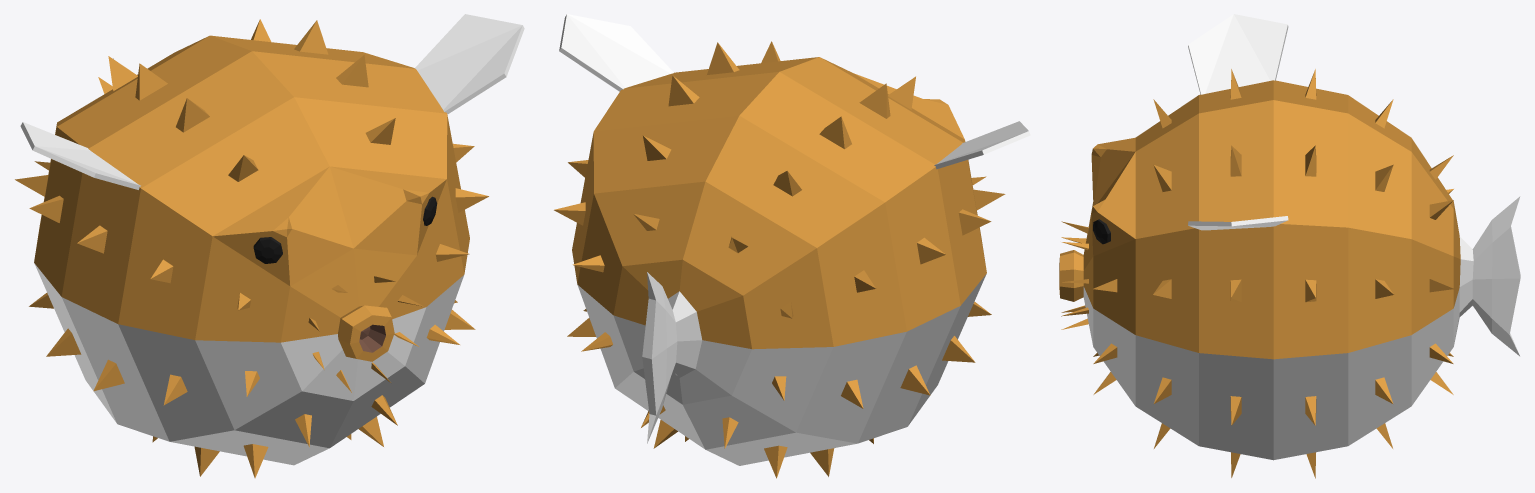
Rendered from Blowfish.glb.
The picture shows the model from 3 angles, left to right: view 1: azimuth 30°, elevation 25°; view 2: azimuth 150°, elevation 25°; view 3: azimuth 270°, elevation 25°; orthographic projection. The views are drawn at different scales.
Visible parts, largest first — view 1: Blowfish_01_Sphere; view 2: Blowfish_01_Sphere; view 3: Blowfish_01_Sphere.
Part boxes in pixels (x1,y1,x2,y2): Blowfish_01_Sphere: [15, 14, 524, 478]; Blowfish_01_Sphere: [554, 14, 1030, 478]; Blowfish_01_Sphere: [1059, 14, 1520, 478].
Size of the model in its own units: 12.89 by 10 by 11.81.
